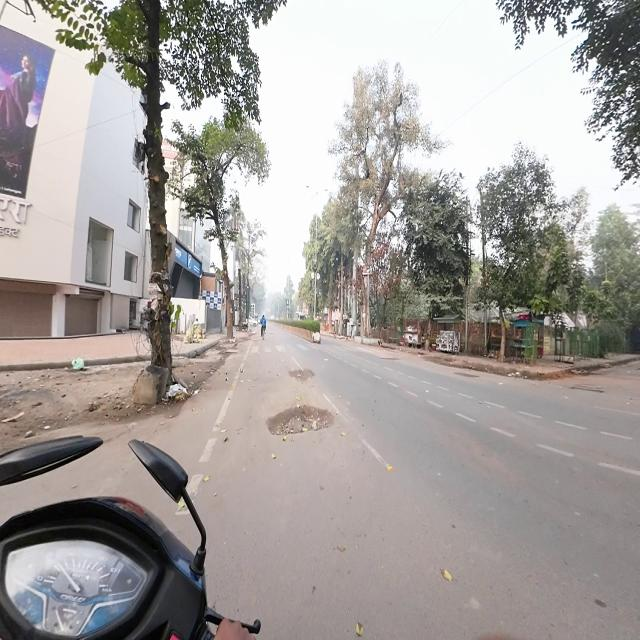Garbage: (167, 376, 190, 410), (67, 354, 87, 376), (506, 363, 522, 384)
